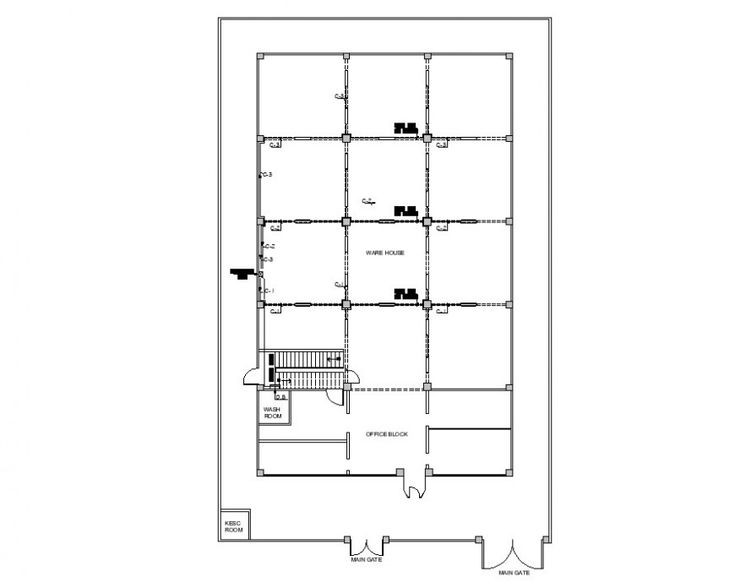room: (252, 47, 528, 482)
